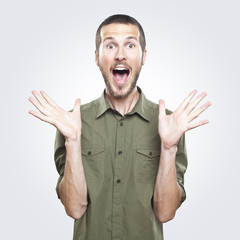young: (90, 10, 155, 100)
